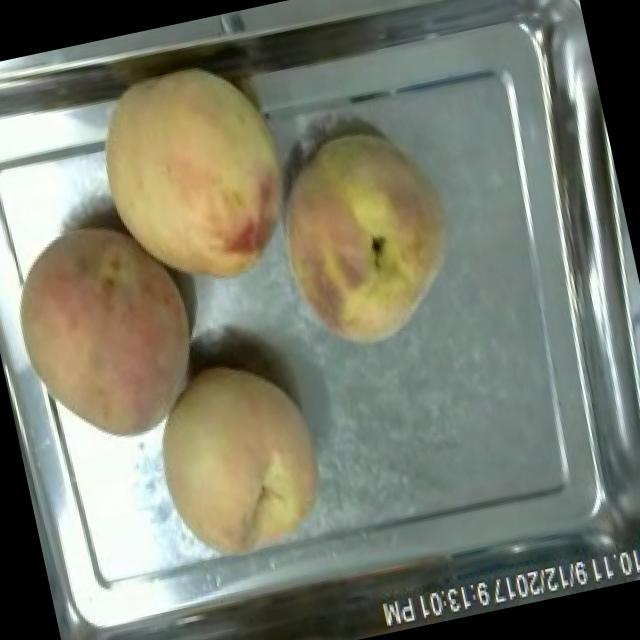Fruit: (72, 38, 318, 312), (0, 201, 221, 462), (251, 112, 476, 368), (136, 342, 345, 578)
